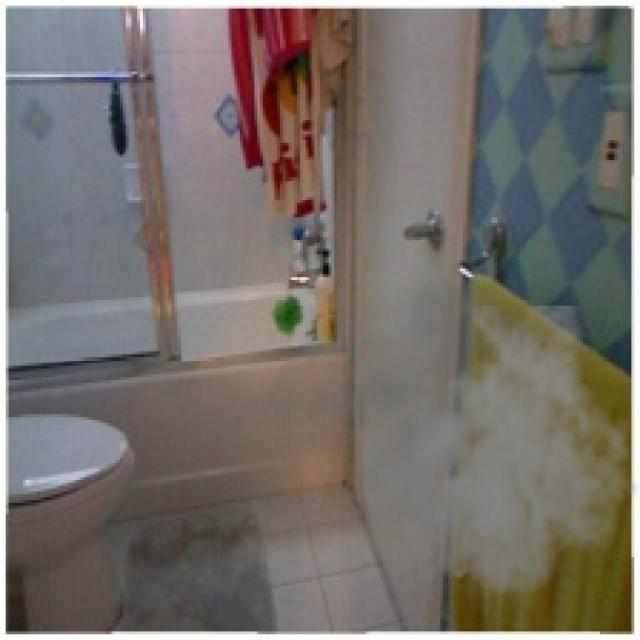smoke: (260, 263, 637, 623)
